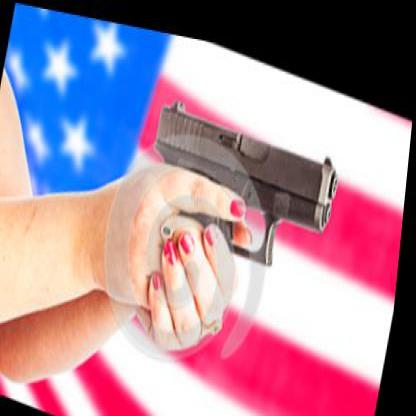pistol: (140, 80, 348, 271)
